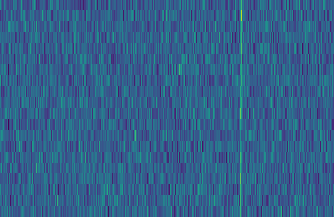signal: (237, 0, 247, 217)
